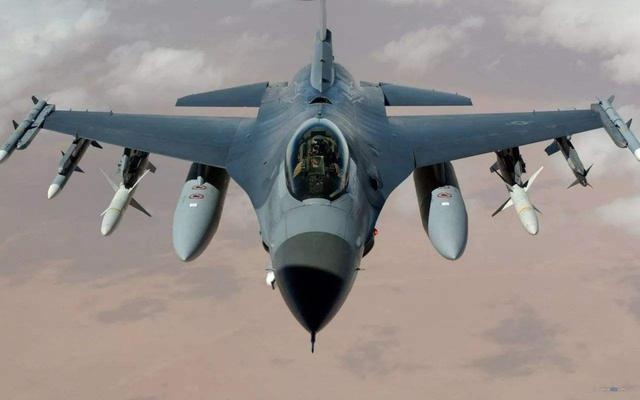airplane: (4, 15, 640, 356)
